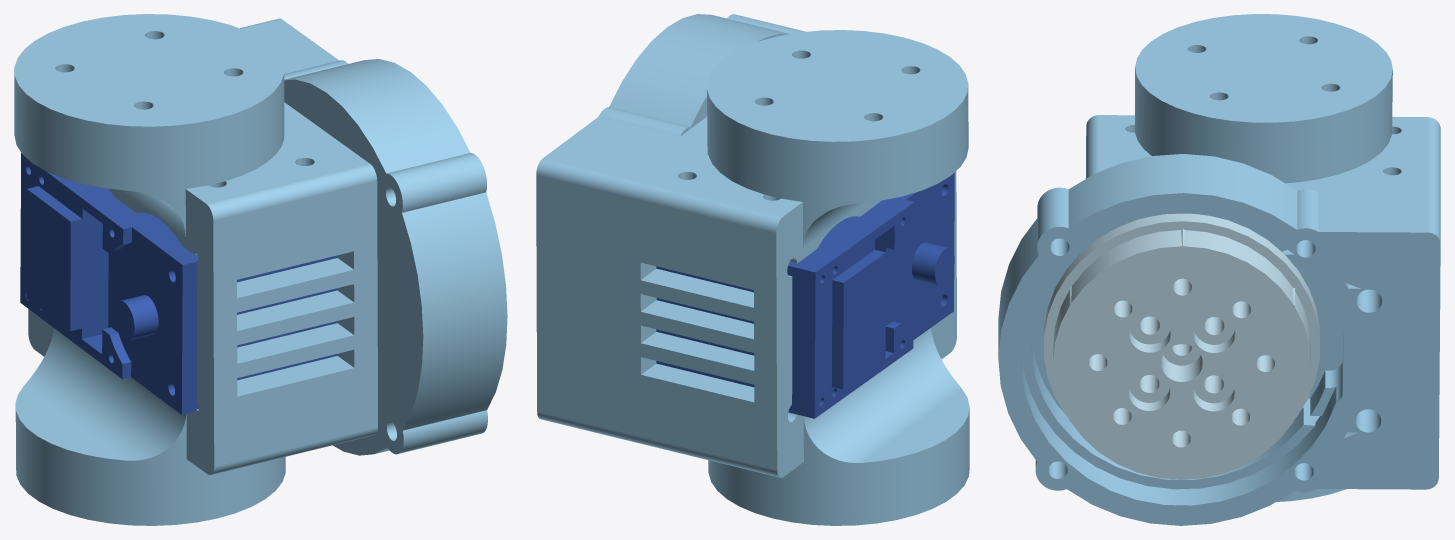
Rendered from ForeArm_joint_roll.dae.
The picture shows the model from 3 angles, left to right: view 1: azimuth 30°, elevation 25°; view 2: azimuth 150°, elevation 25°; view 3: azimuth 270°, elevation 25°; orthographic projection. The views are drawn at different scales.
Visible parts, largest first — view 1: generic_base_sts3215_v3 v2, STS3215_original v1; view 2: generic_base_sts3215_v3 v2, STS3215_original v1; view 3: generic_base_sts3215_v3 v2, forearm_yaw_shaft v3.
Boxes of the visible parts, x1,y1,x2,y2 form: generic_base_sts3215_v3 v2: (14, 14, 507, 525); STS3215_original v1: (20, 153, 337, 414); generic_base_sts3215_v3 v2: (536, 14, 969, 525); STS3215_original v1: (656, 172, 954, 418); generic_base_sts3215_v3 v2: (998, 14, 1440, 525); forearm_yaw_shaft v3: (1044, 213, 1319, 479).
Size of the model in its own units: 0.0574 by 0.0686 by 0.0653.
